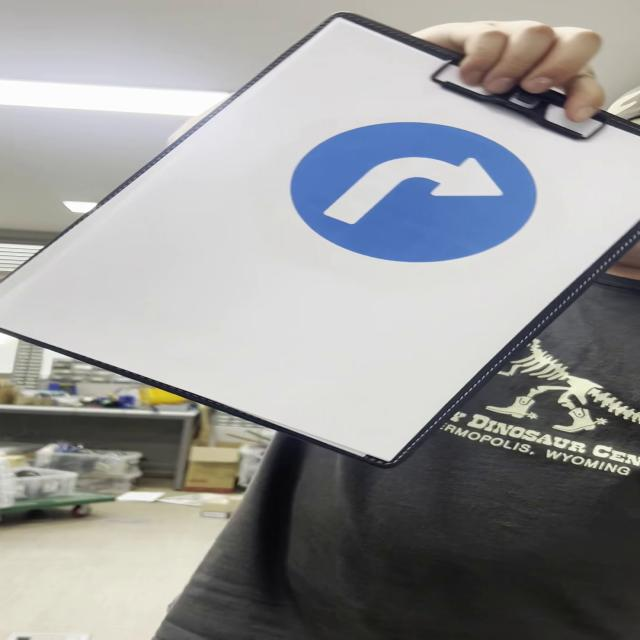right: (287, 123, 540, 260)
